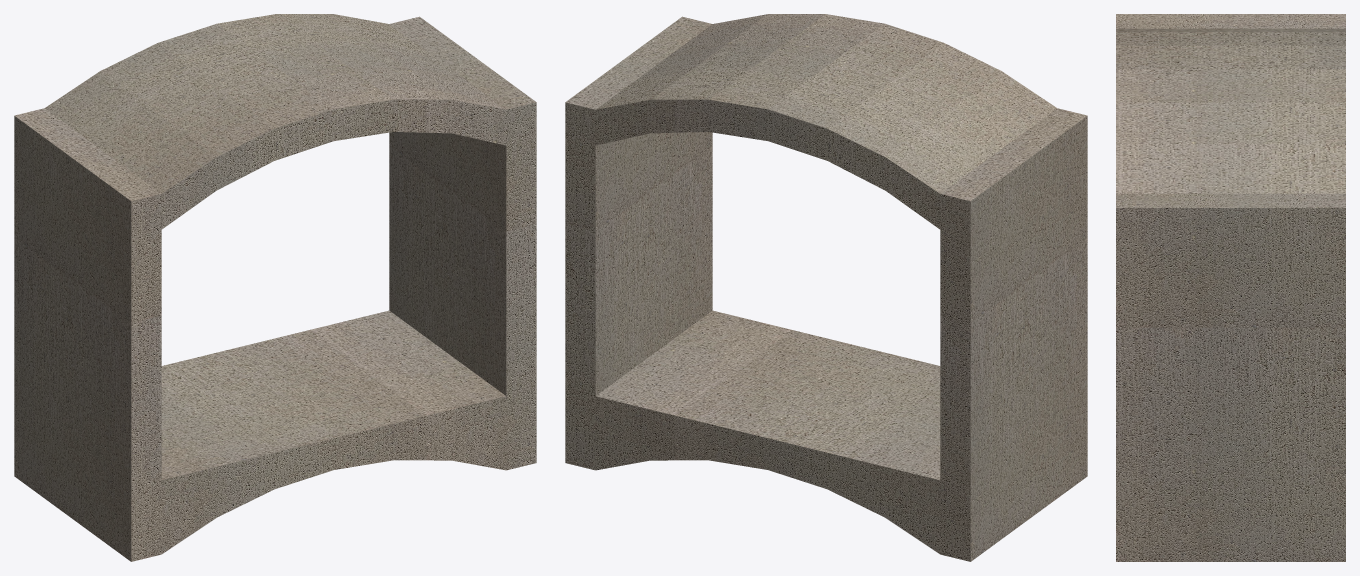
3 views of the same model, side by side, from view 1: azimuth 30°, elevation 25°; view 2: azimuth 150°, elevation 25°; view 3: azimuth 270°, elevation 25° (orthographic).
Visible parts, largest first — view 1: limestone; view 2: limestone; view 3: limestone.
Part boxes in pixels (x1,y1,x2,y2): limestone: (14,14,536,561); limestone: (565,14,1087,561); limestone: (1116,14,1345,561).
Size of the model in its own units: 0.4 by 0.38 by 0.2.
1 material, 1 textured.
